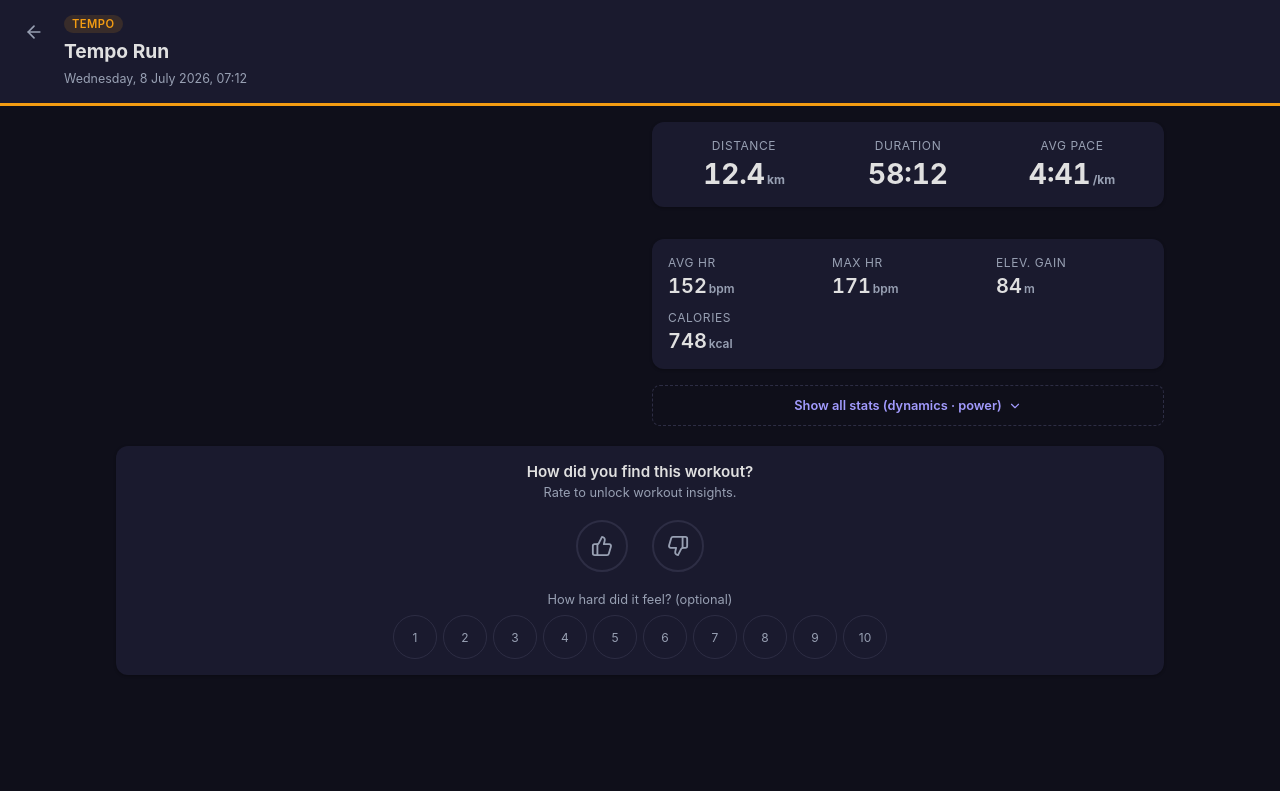
it: ActivityDetailView collapsible stats › hides Dynamics/Power/Performance/Conditions behind "Show all stats" until expanded
Expected: the heading "Tempo Run" is shown, x1=64 y1=39 x2=169 y2=63
Expected: the text "Running Dynamics" is not shown
Click the button "Show all stats (dynamics · power)" at (908, 406), box x1=652 y1=385 x2=1164 y2=426
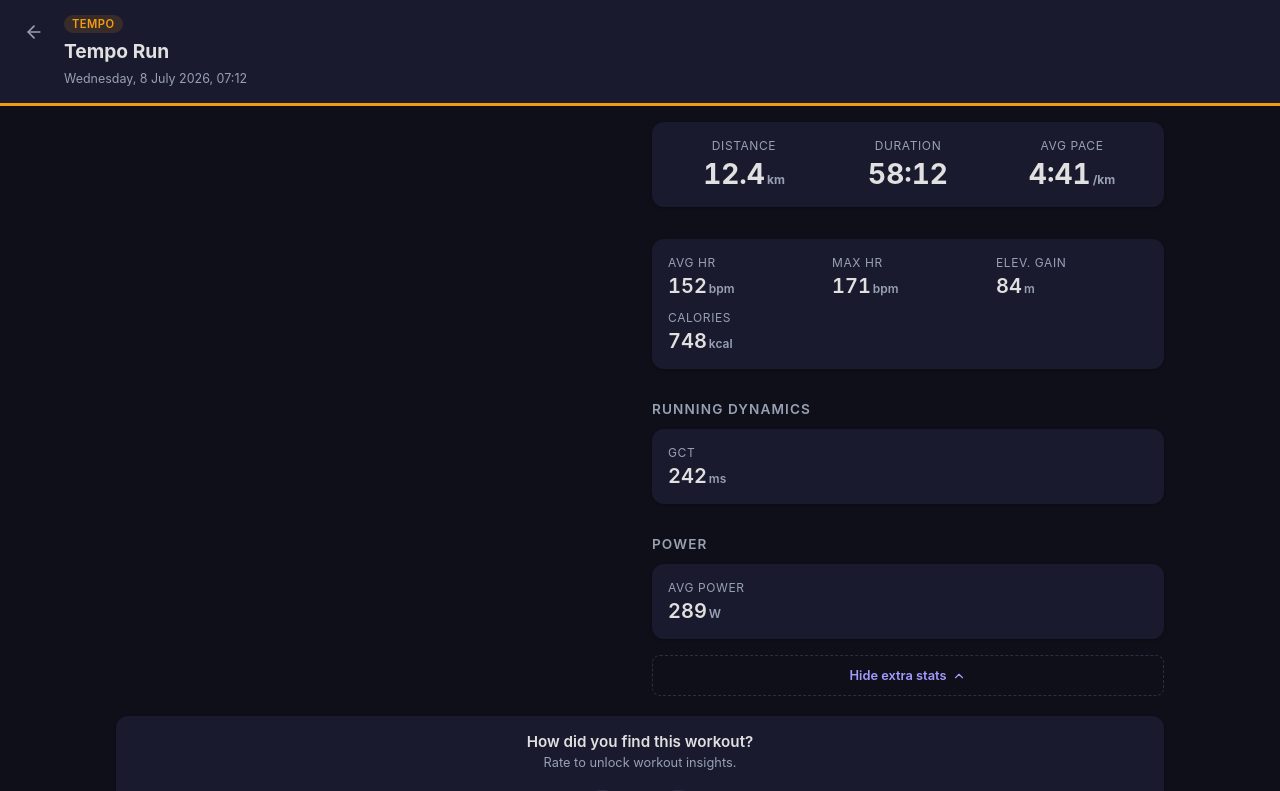
Now the heading "Running Dynamics" is shown, box x1=652 y1=401 x2=811 y2=417
Now the heading "Power" is shown, box x1=652 y1=536 x2=707 y2=552
Now the button "Hide extra stats" is shown, box x1=652 y1=655 x2=1164 y2=696
